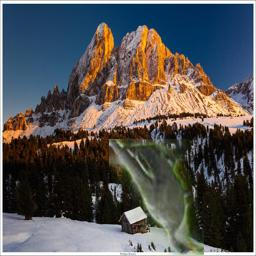Cuckoo: (109, 139, 204, 255)
